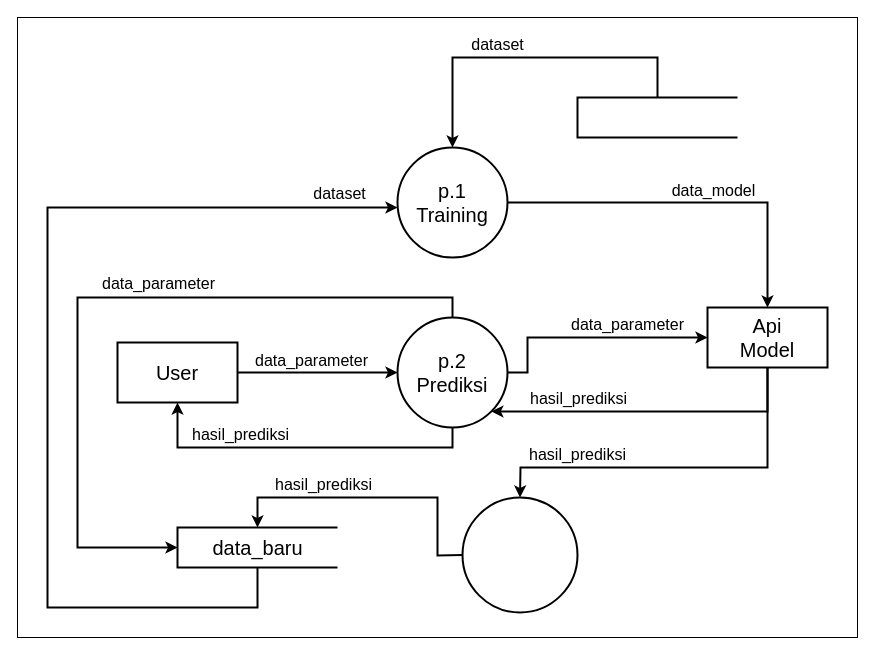
Some shapes in this 875 by 655 pixel diagram are drawn without their labels. Each missing label, with the box of its shape:
database: (576, 96, 738, 138)
p.3 Tambah Data Baru: (461, 496, 578, 613)
